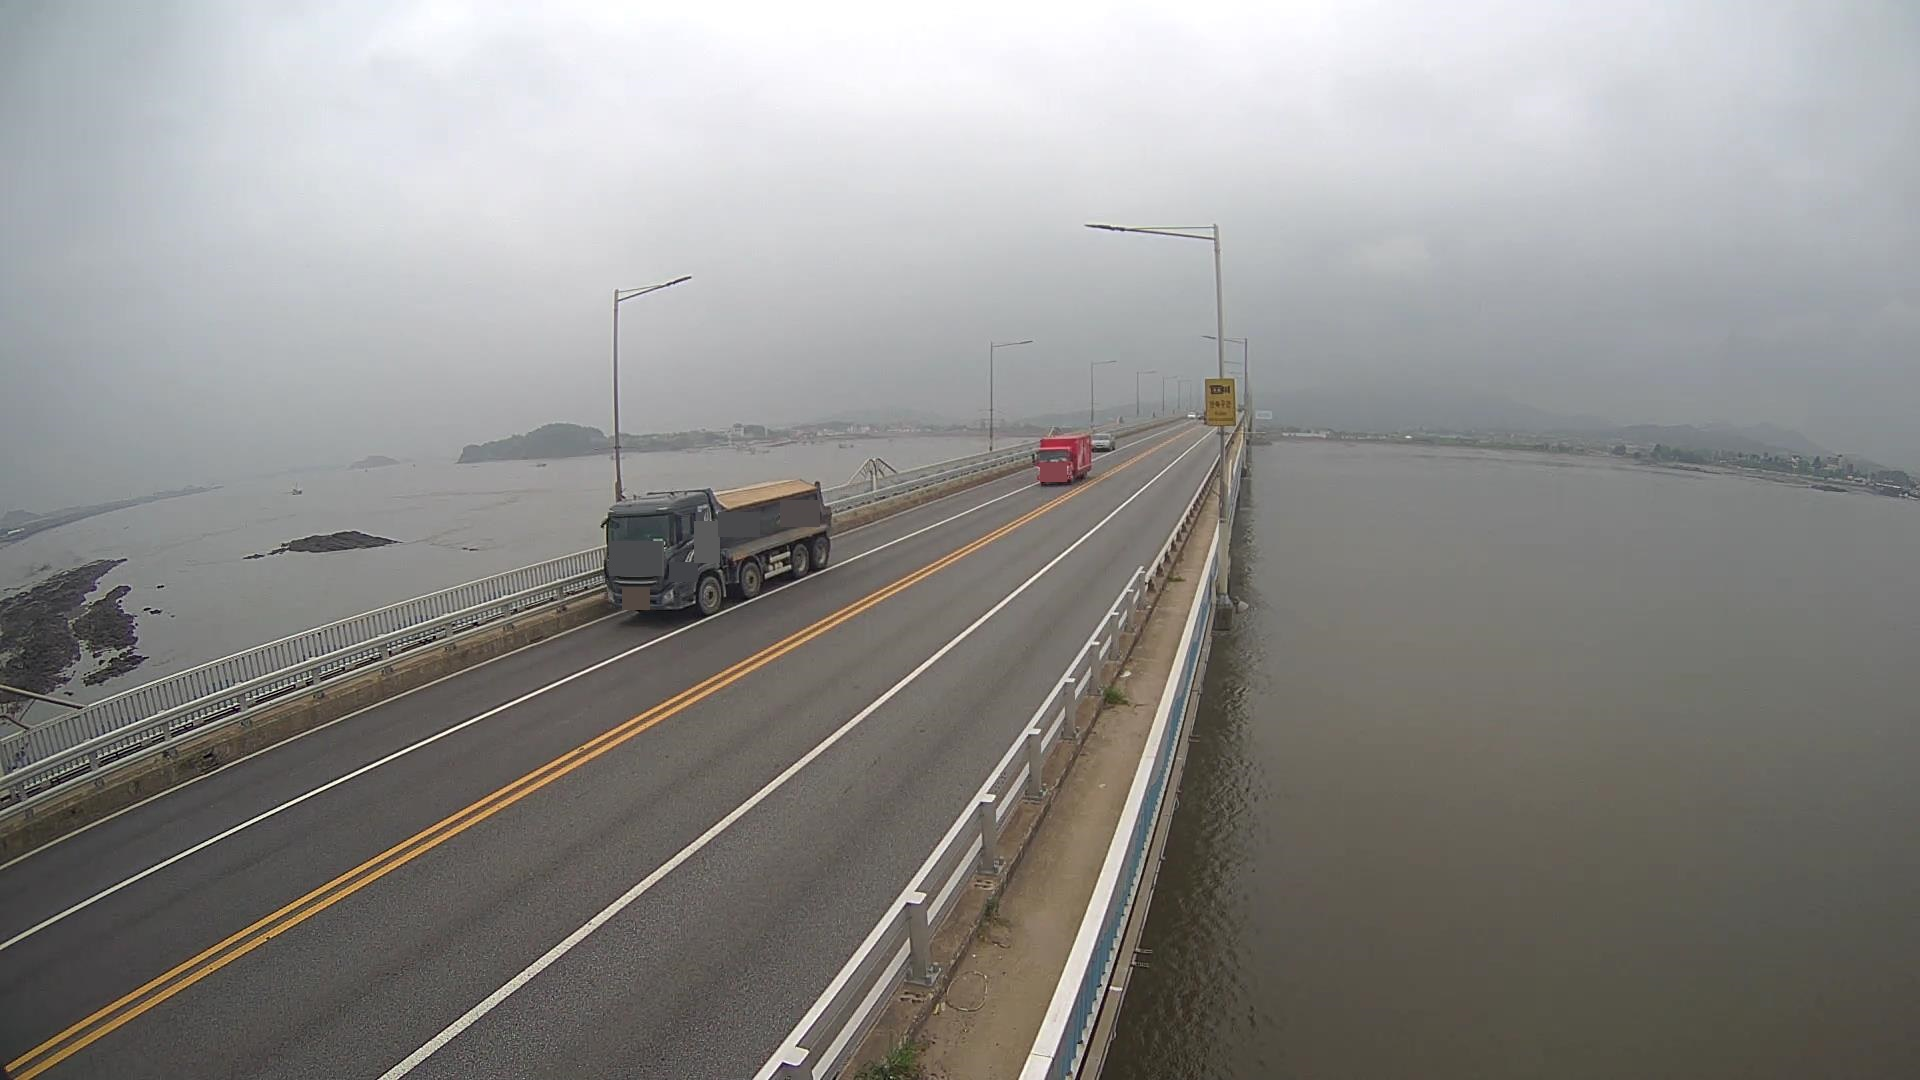정상차량: (601, 479, 832, 615)
